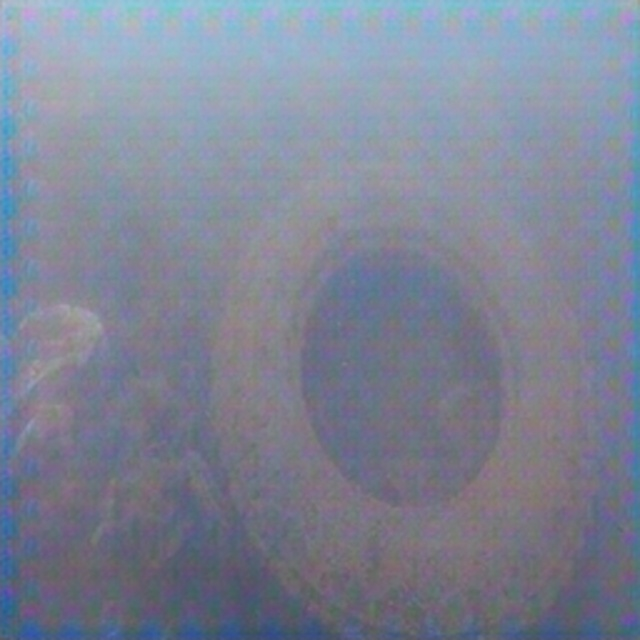mine: (209, 165, 602, 639)
